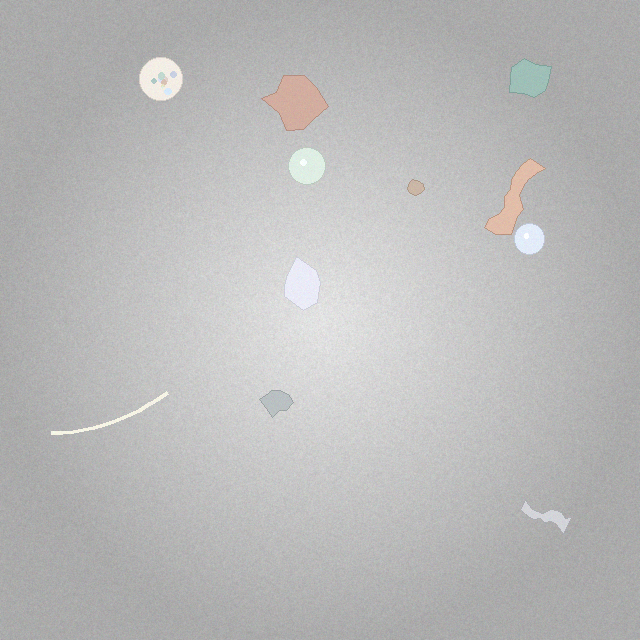fiber: (47, 388, 172, 439)
film: (484, 159, 546, 235), (520, 500, 572, 534)
foam: (139, 57, 182, 100)
fragment: (262, 75, 329, 131), (284, 256, 321, 311), (510, 58, 551, 97), (260, 390, 293, 417), (408, 180, 425, 196)
pellet: (288, 147, 326, 185), (514, 224, 545, 254)
